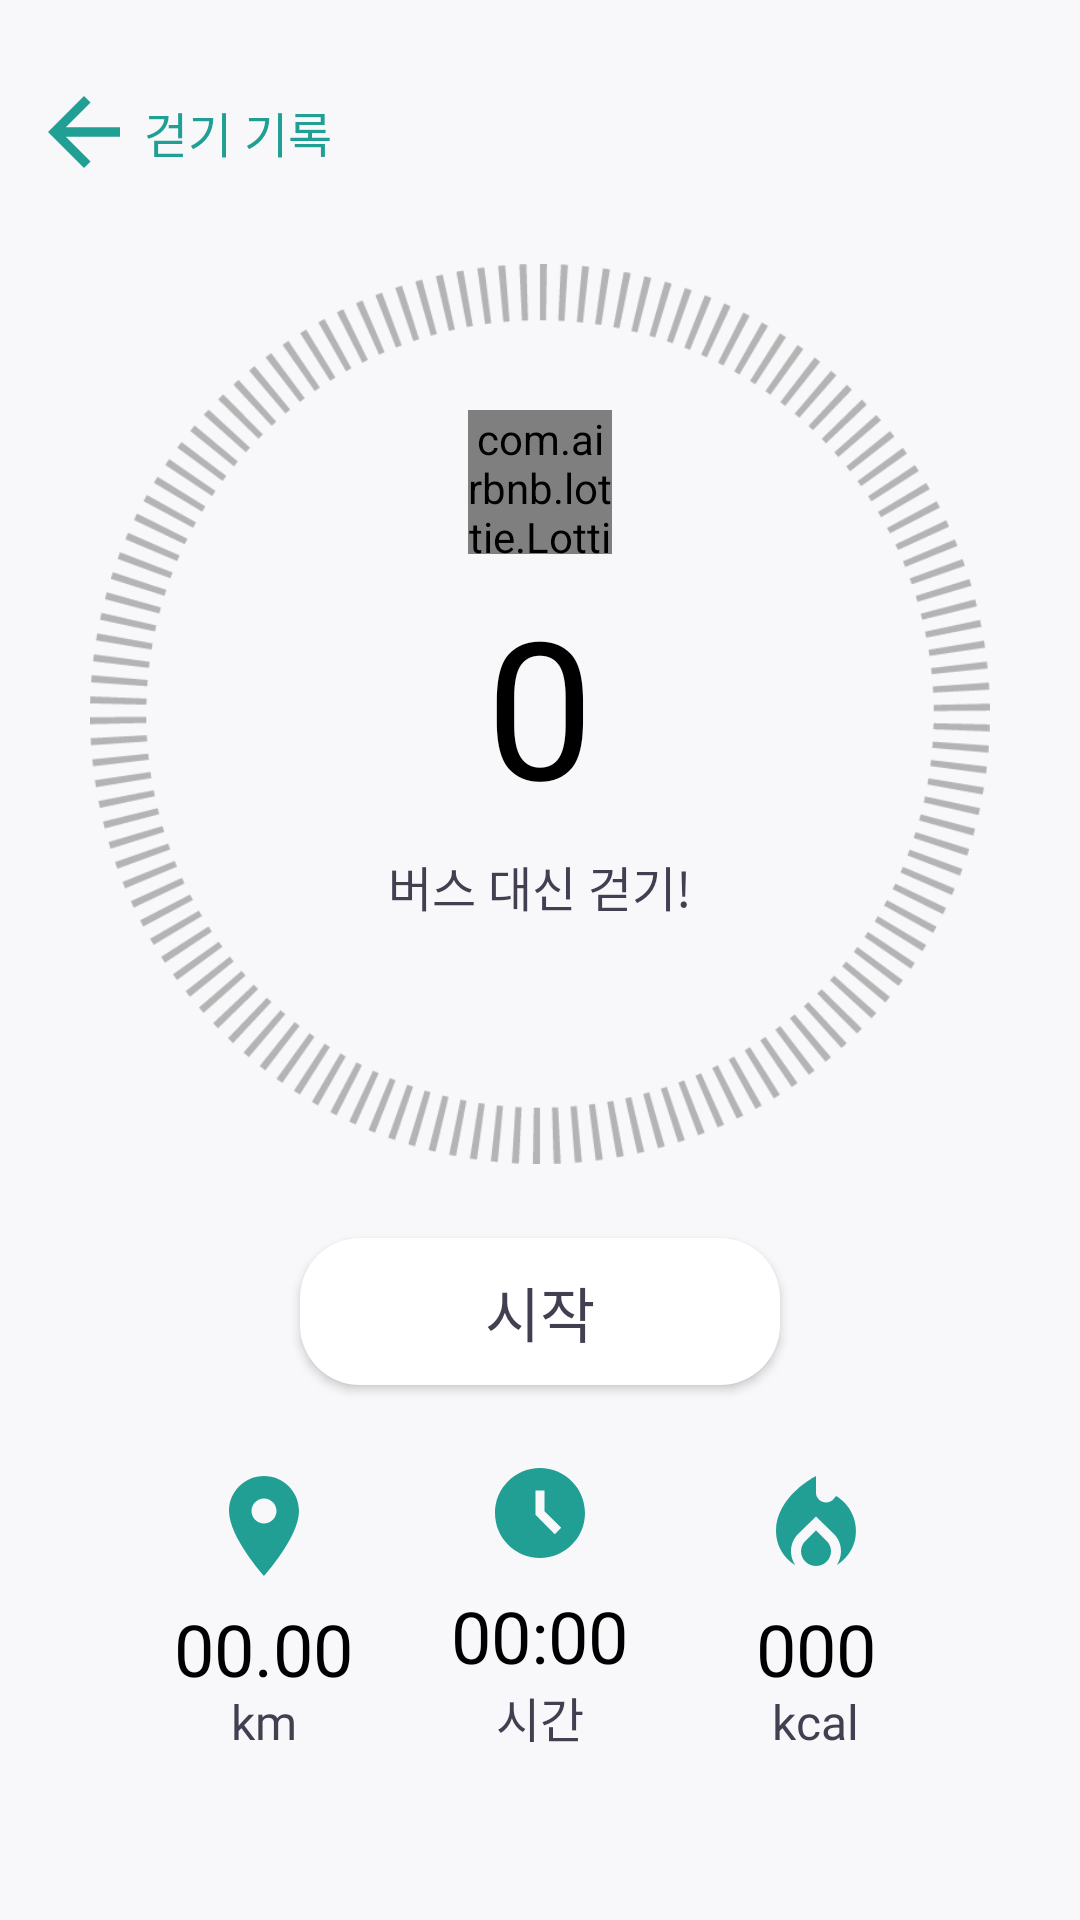

Icons on this 1080×1920 Android screen, each with its box as (x1, y1, x2, y2):
backward arrow: (48, 96, 120, 168)
fire: (776, 1476, 856, 1566)
location: (229, 1476, 299, 1576)
time: (495, 1468, 585, 1558)
